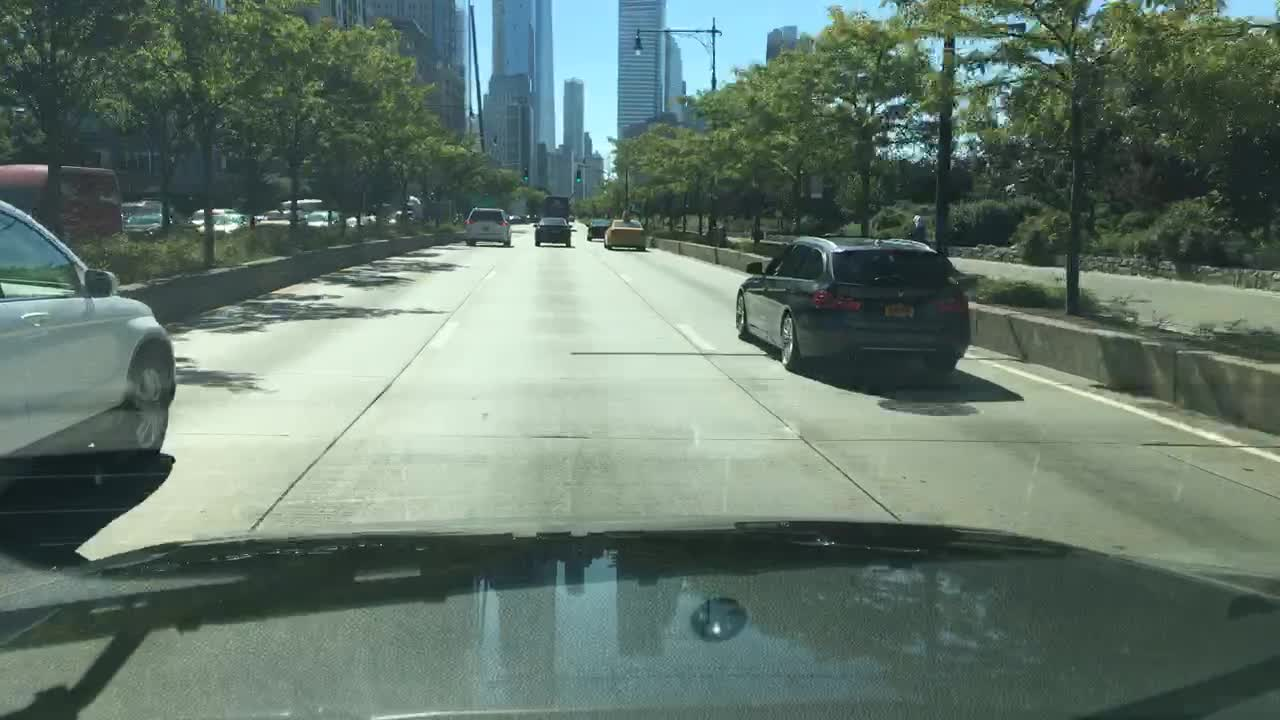bus: (0, 165, 119, 234), (540, 195, 566, 221)
car: (0, 195, 177, 453), (731, 233, 973, 369), (461, 204, 510, 245), (122, 200, 176, 235), (602, 216, 648, 253), (200, 214, 249, 235), (532, 221, 573, 246), (186, 206, 243, 223), (267, 197, 322, 214), (306, 209, 338, 228), (585, 215, 607, 238), (345, 214, 378, 226), (389, 208, 413, 220), (256, 218, 290, 226), (506, 211, 524, 223), (526, 212, 540, 221), (567, 212, 579, 221), (265, 208, 279, 215)
person: (907, 213, 927, 238)
traffic light: (574, 165, 581, 182), (523, 167, 529, 181)
